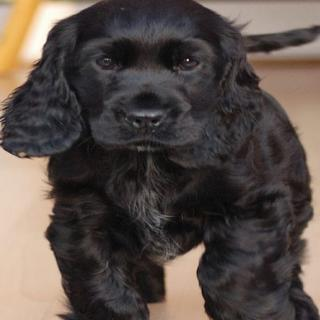dog: (16, 0, 254, 161)
nose: (119, 90, 175, 132)
